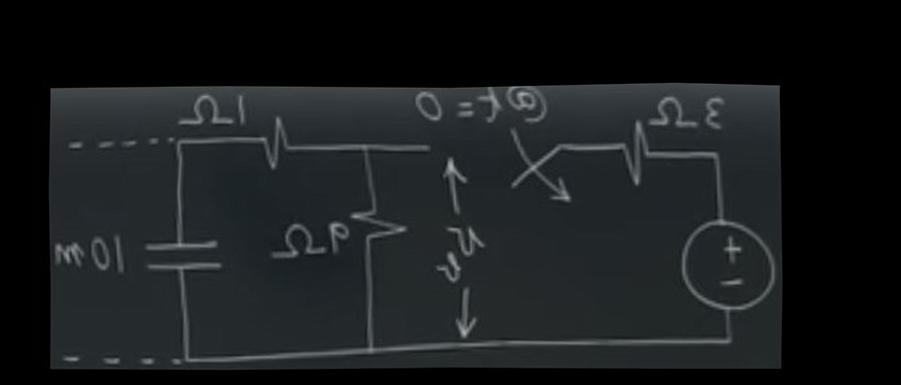Battery: (658, 200, 780, 329)
